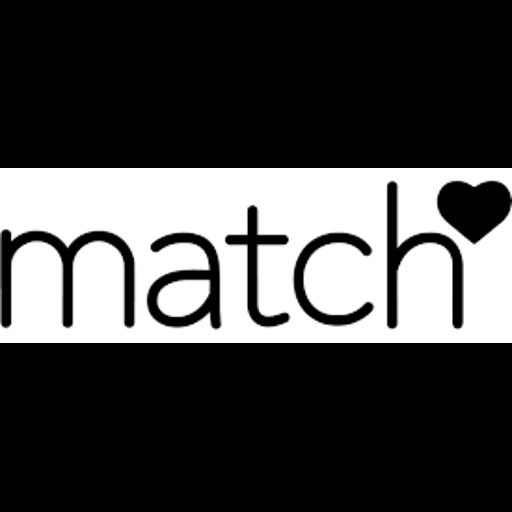Match: (0, 168, 512, 343)
